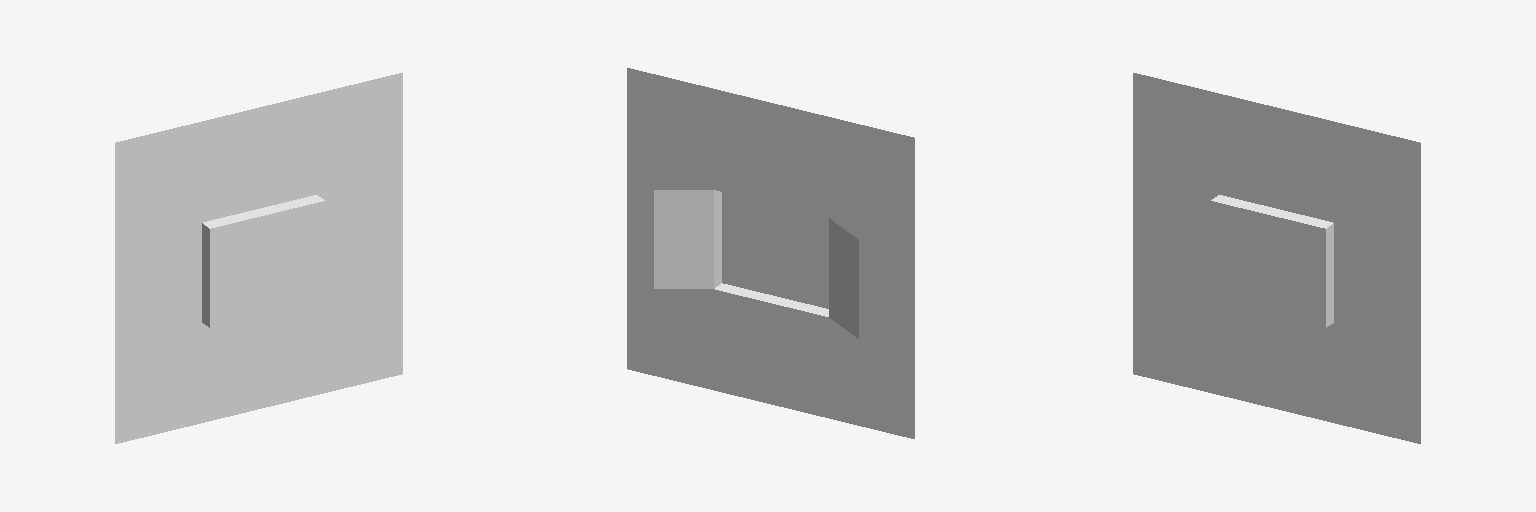
Rendered from wall-pane-window.obj.
The picture shows the model from 3 angles: view 1: azimuth 30°, elevation 25°; view 2: azimuth 150°, elevation 25°; view 3: azimuth 330°, elevation 25°; orthographic projection.
Parts seen in each view (by area): view 1: wall-pane-window; view 2: wall-pane-window; view 3: wall-pane-window.
Part boxes in pixels (left/top/right/bottom): wall-pane-window: left=115, top=73, right=402, bottom=443; wall-pane-window: left=627, top=68, right=914, bottom=438; wall-pane-window: left=1133, top=73, right=1420, bottom=443.
Size of the model in its own units: 1 by 1 by 0.1391.